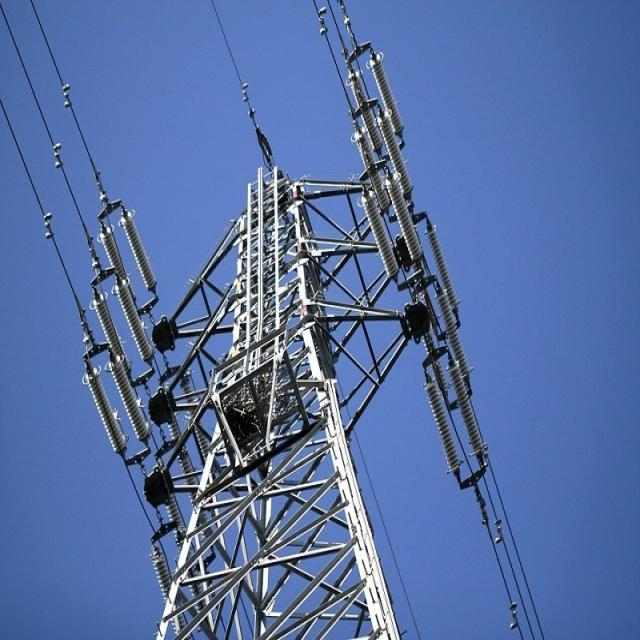non-critical vegetation: (55, 70, 513, 636)
